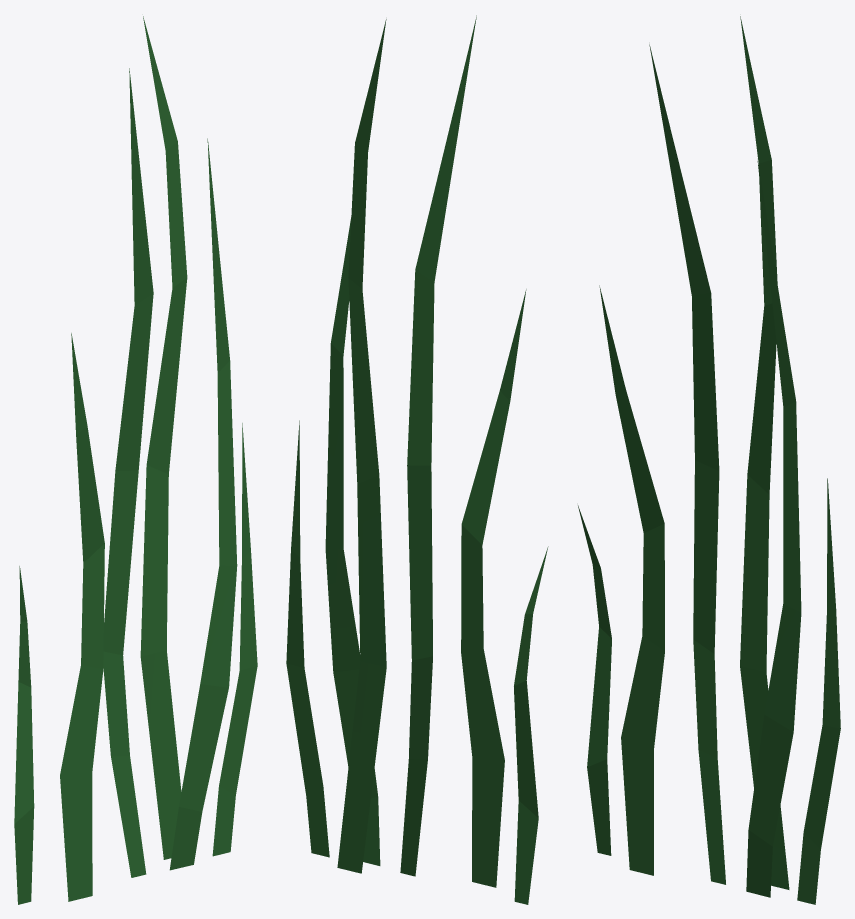
The model's file is nature-grass-sea-long-2.glb.
3 renders of one model, left to right at view 1: azimuth 30°, elevation 25°; view 2: azimuth 150°, elevation 25°; view 3: azimuth 330°, elevation 25°, orthographic.
Parts seen in each view (by area): view 1: grass-sea-long; view 2: grass-sea-long; view 3: grass-sea-long.
Boxes of the visible parts, left/top/right/bottom form: grass-sea-long: left=14, top=16, right=257, bottom=904; grass-sea-long: left=286, top=15, right=548, bottom=904; grass-sea-long: left=578, top=16, right=840, bottom=904.
Size of the model in its own units: 0.7803 by 2.56 by 0.2167.
